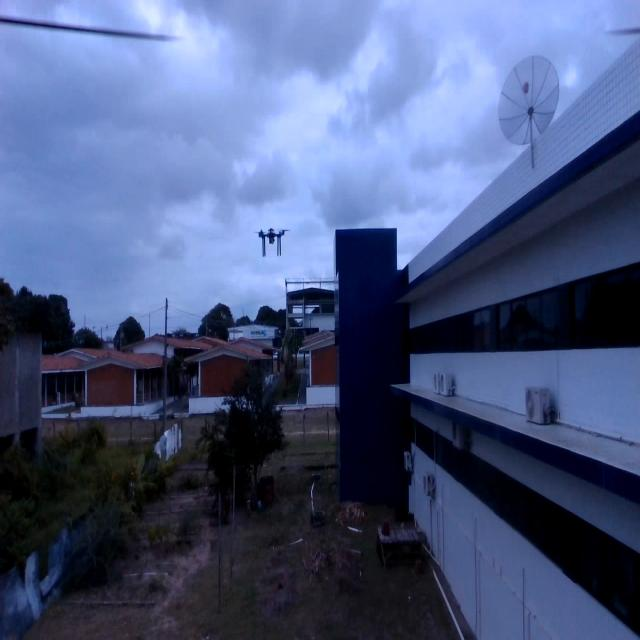-uav-: (256, 204, 292, 270)
